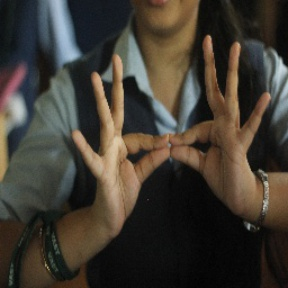B: (110, 104, 234, 189)
